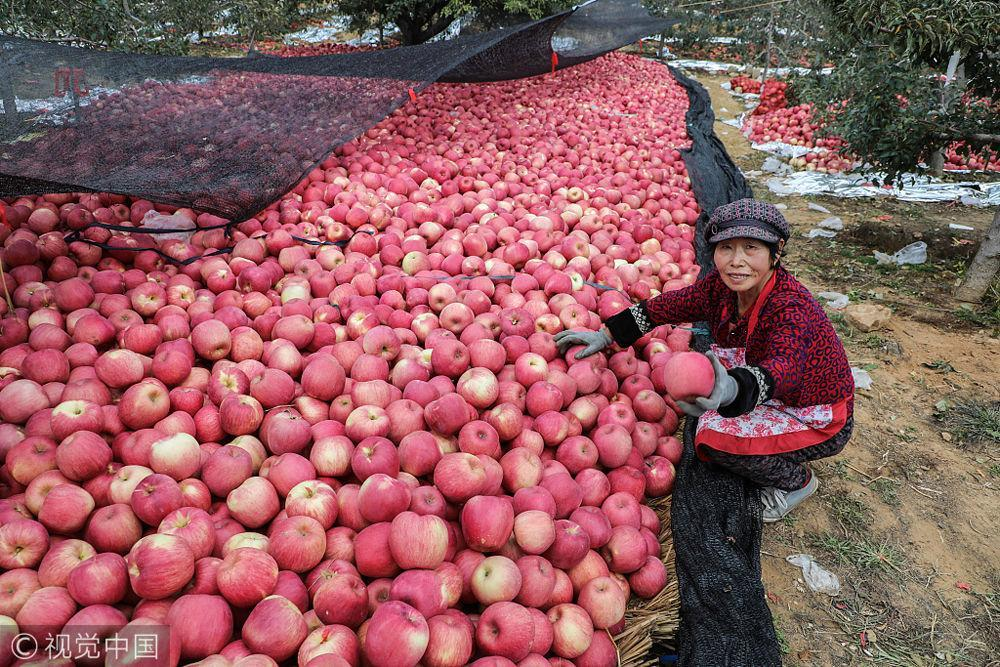apple: (243, 590, 311, 654), (361, 602, 429, 666), (384, 508, 452, 572), (123, 533, 191, 597), (165, 590, 233, 654), (478, 601, 536, 660), (218, 546, 279, 600), (68, 552, 129, 605), (159, 503, 216, 558), (270, 517, 324, 571), (297, 621, 359, 667), (131, 472, 185, 523), (422, 612, 472, 667), (228, 474, 280, 526), (38, 539, 94, 587), (287, 478, 337, 529), (662, 352, 713, 401), (42, 484, 93, 533), (1, 519, 49, 568), (90, 503, 140, 549)
